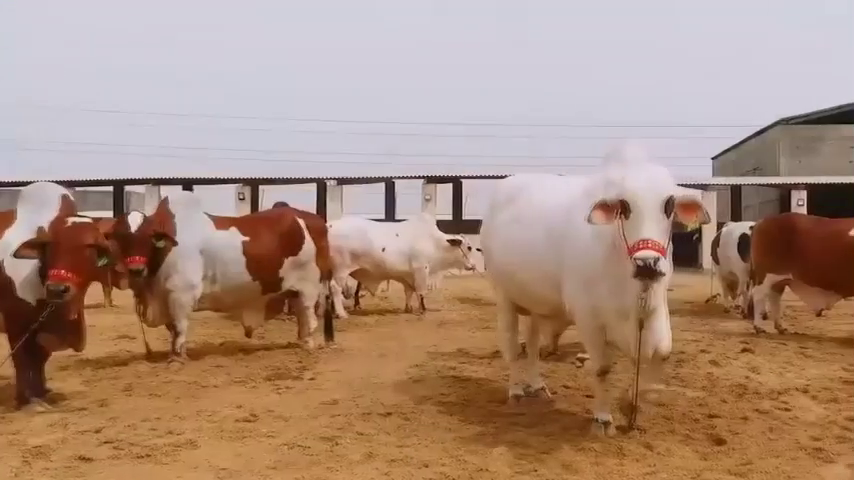bo: (471, 128, 718, 443), (111, 163, 336, 376), (3, 172, 109, 418), (324, 201, 478, 323), (750, 198, 854, 345), (704, 198, 755, 313)
